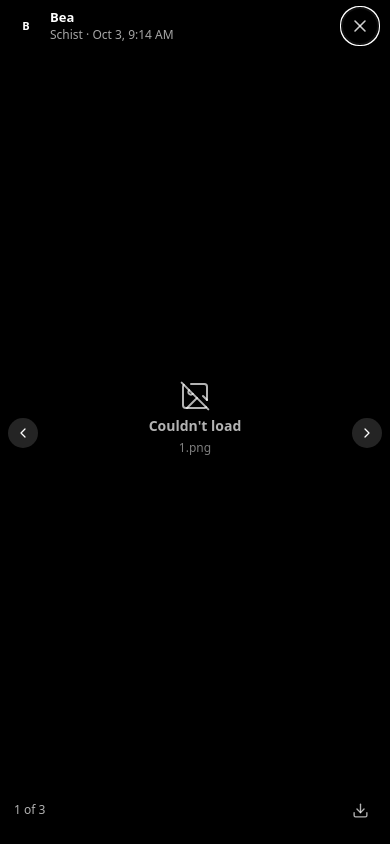
Scenario: MediaViewer › a failed load shows the "Couldn't load" tile
Expected: the text "Couldn't load" is shown, left=149, top=416, right=241, bottom=436
Click the button named "Next" at (367, 433), box left=352, top=418, right=382, bottom=448
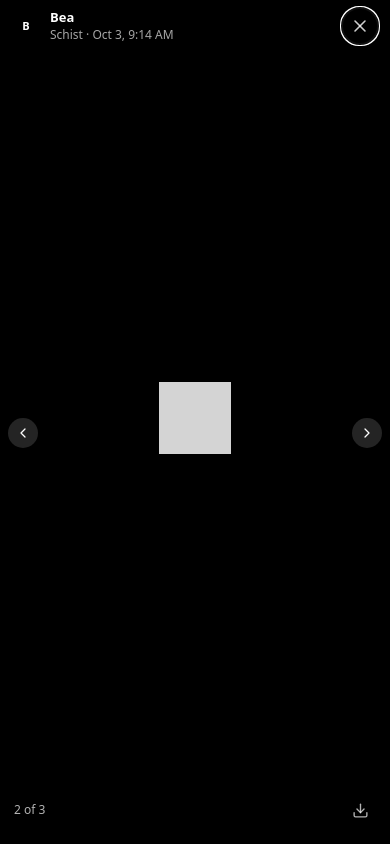
Expected: the text "Couldn't load" is gone
